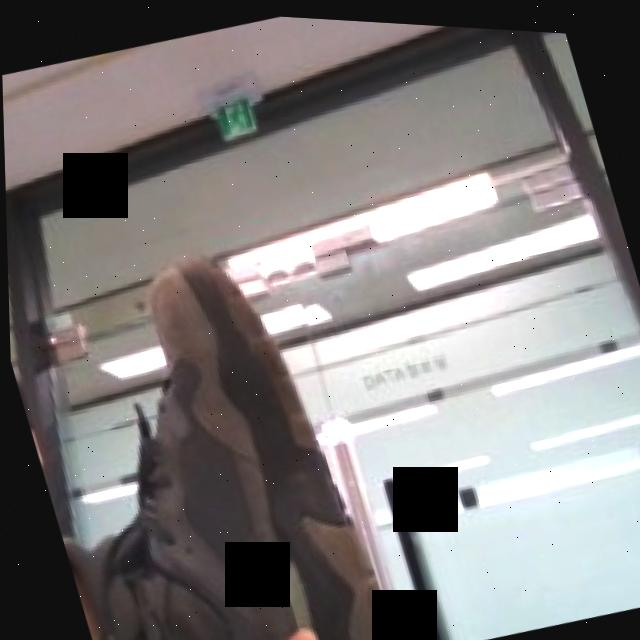shoe: (18, 221, 395, 640)
